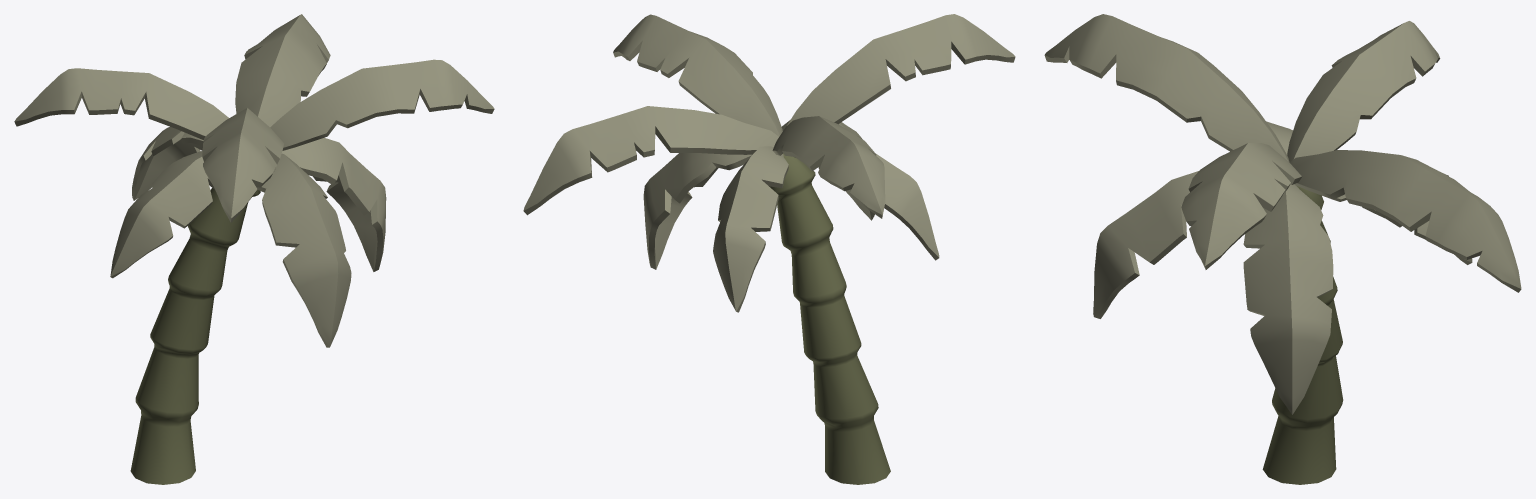
The model's file is quaternius-pirate-environment-palm-tree-2.glb.
The picture shows the model from 3 angles, left to right: view 1: azimuth 30°, elevation 25°; view 2: azimuth 150°, elevation 25°; view 3: azimuth 270°, elevation 25°; orthographic projection. The views are drawn at different scales.
Parts seen in each view (by area): view 1: Environment_PalmTree_2; view 2: Environment_PalmTree_2; view 3: Environment_PalmTree_2.
Boxes of the visible parts, box(x1,y1,x2,y2) form: Environment_PalmTree_2: box(14, 14, 494, 484); Environment_PalmTree_2: box(523, 14, 1015, 484); Environment_PalmTree_2: box(1044, 14, 1521, 484).
Bounding box in the file's own units: 2.64 × 2.69 × 2.58.
1 material, 1 textured.
